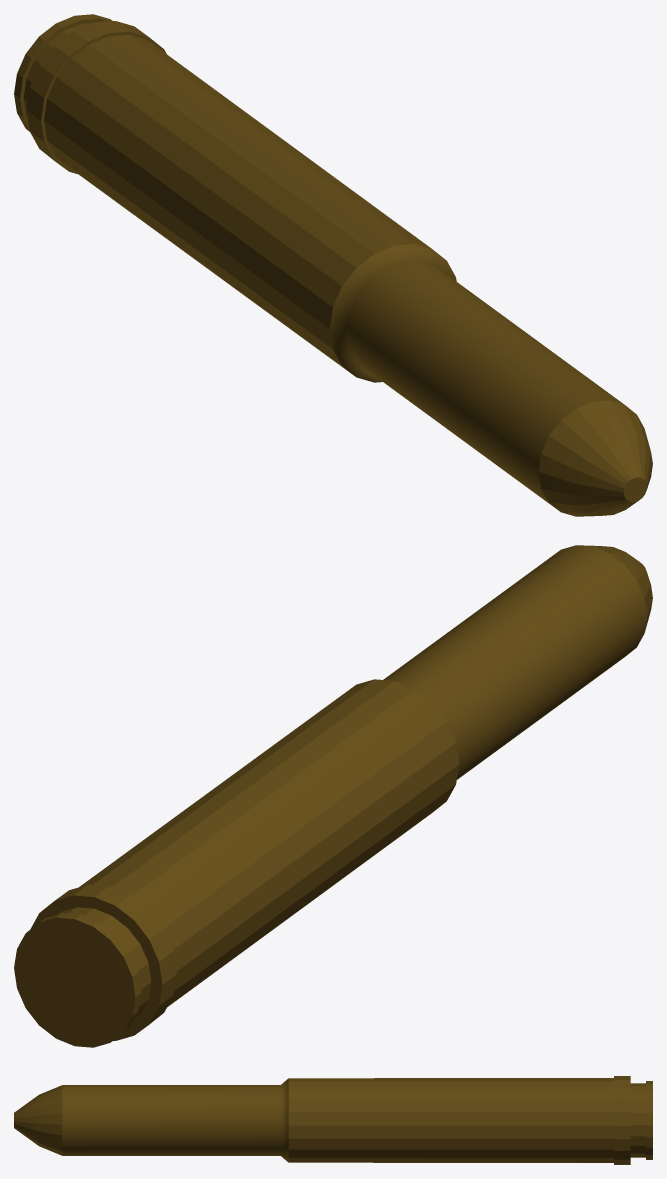
The model's file is Bulle.fbx.
3 views of the same model, one above another, from view 1: azimuth 30°, elevation 25°; view 2: azimuth 150°, elevation 25°; view 3: azimuth 270°, elevation 25° (orthographic). The views are drawn at different scales.
Visible parts, largest first — view 1: pCylinder6; view 2: pCylinder6; view 3: pCylinder6.
Part boxes in pixels (x1,y1,x2,y2): pCylinder6: [14, 14, 652, 516]; pCylinder6: [14, 545, 652, 1047]; pCylinder6: [14, 1076, 652, 1164].
Size of the model in its own units: 0.0183 by 0.1306 by 0.0183.
